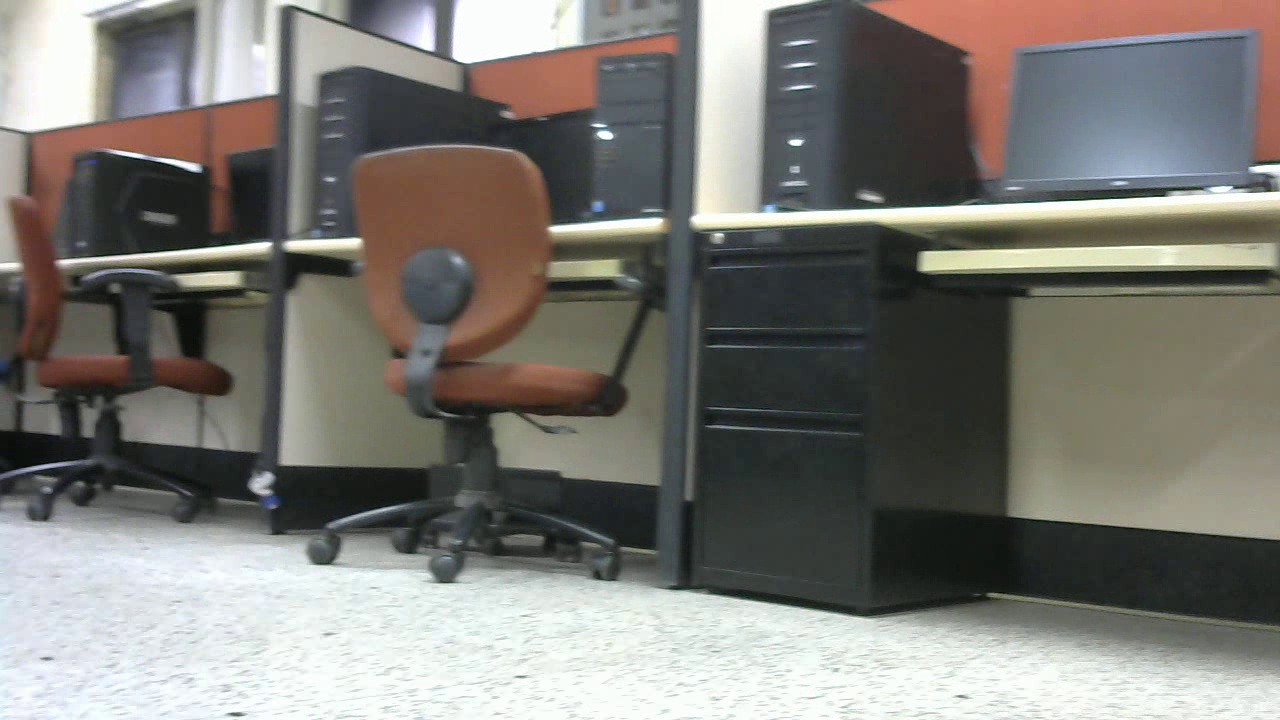chair: (302, 139, 645, 583), (1, 191, 235, 522)
